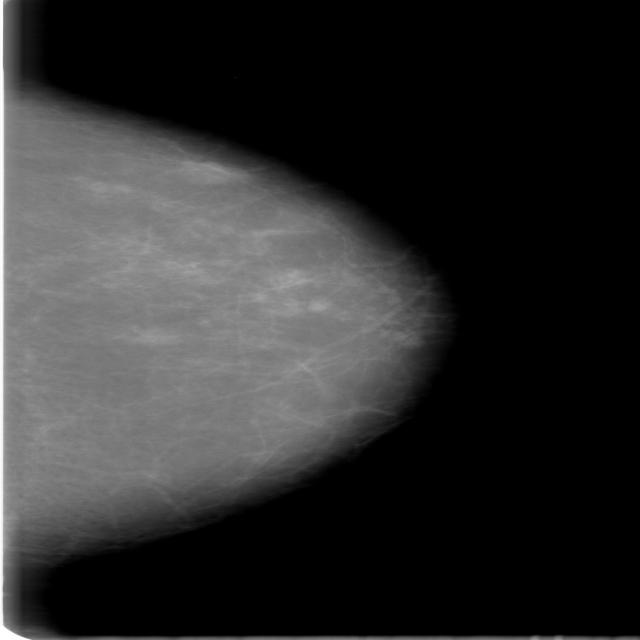normal: (0, 73, 445, 576)
